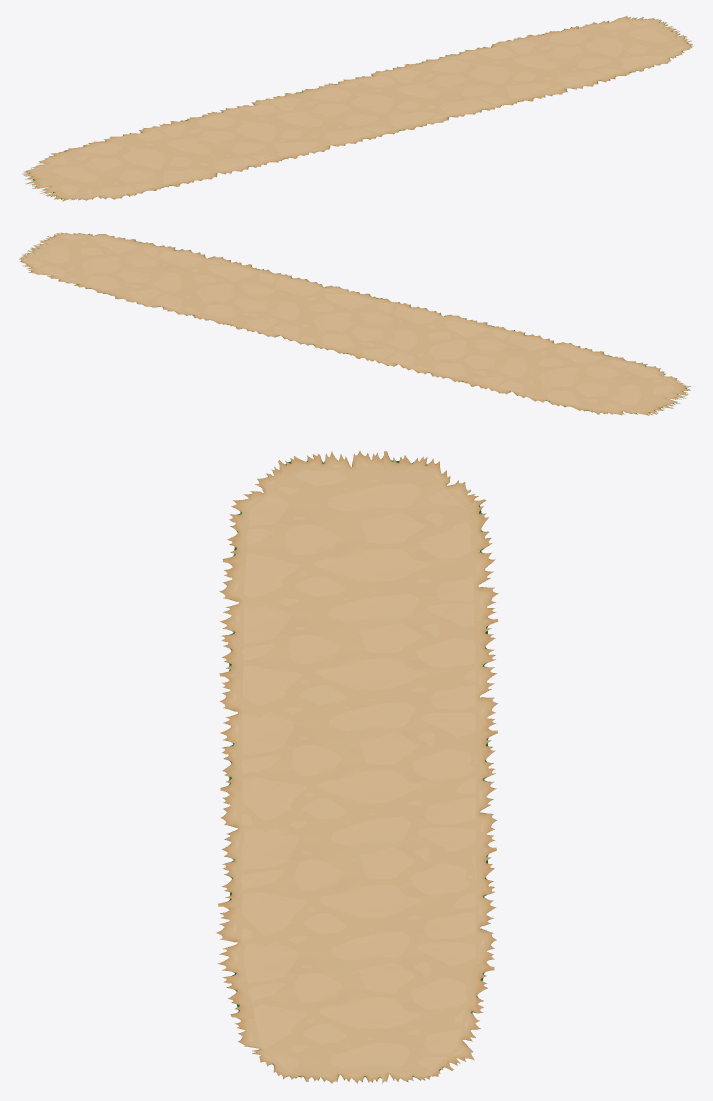
Rendered from Long boi.fbx.
3 renders of one model, top to bottom at view 1: azimuth 30°, elevation 25°; view 2: azimuth 150°, elevation 25°; view 3: azimuth 270°, elevation 25°, orthographic. The views are drawn at different scales.
Parts seen in each view (by area): view 1: pPlane3; view 2: pPlane3; view 3: pPlane3.
Part boxes in pixels (bbox=[...]): pPlane3: bbox=[22, 15, 693, 201]; pPlane3: bbox=[19, 232, 690, 415]; pPlane3: bbox=[216, 451, 498, 1083].
Size of the model in its own units: 10.72 by 1.65e-17 by 2.09.
